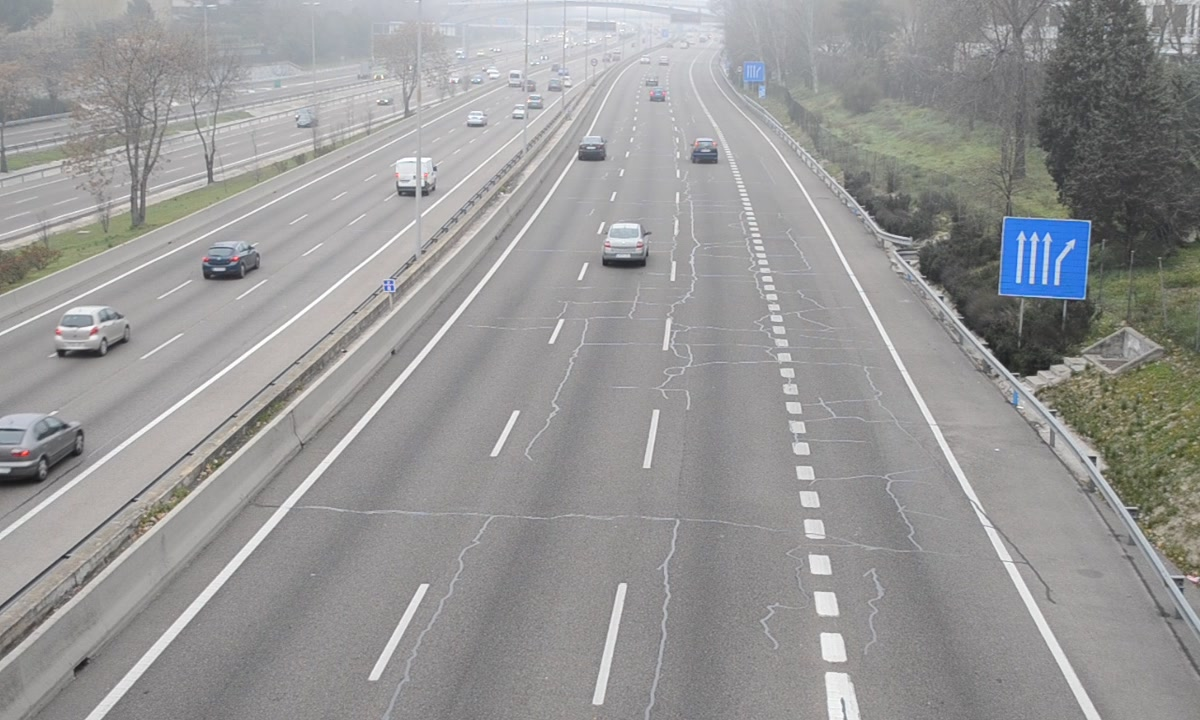car: (604, 222, 649, 265), (691, 138, 719, 165), (578, 136, 606, 162)
